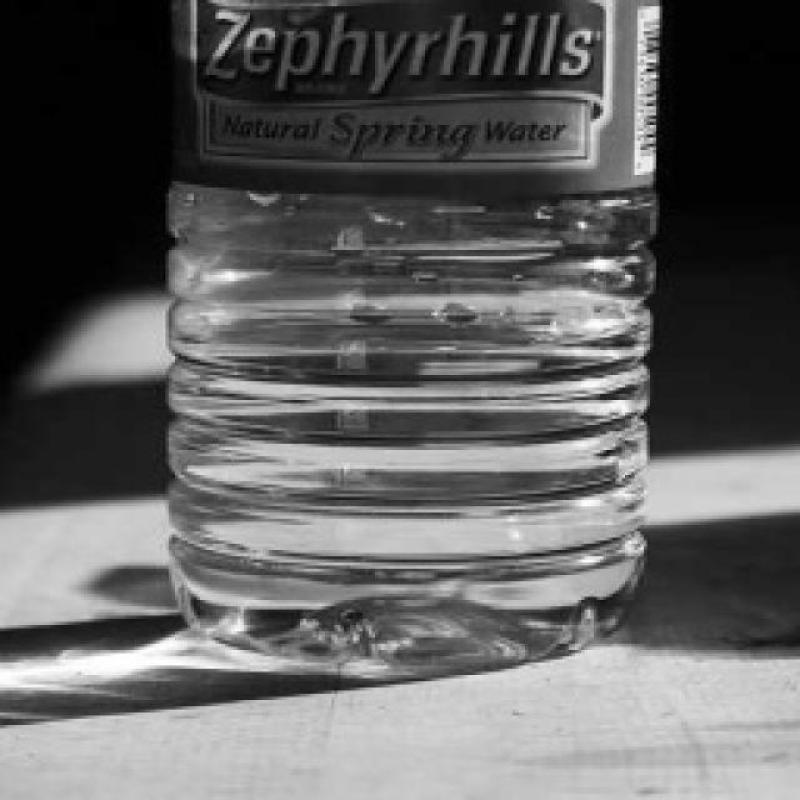botella: (157, 0, 661, 672)
